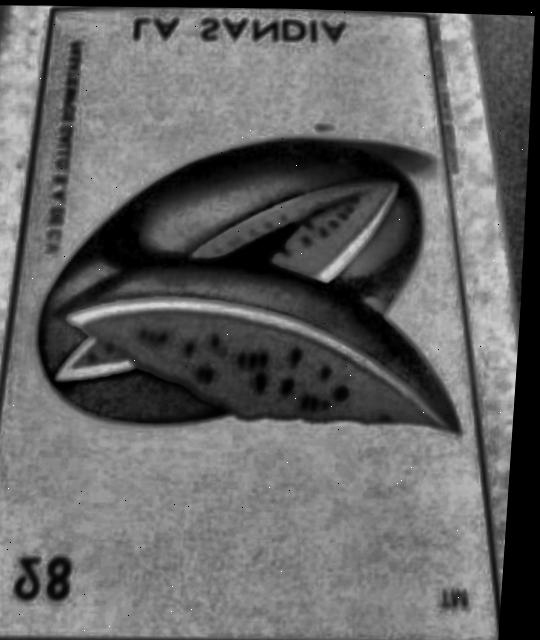La Sandia: (0, 7, 508, 640)
